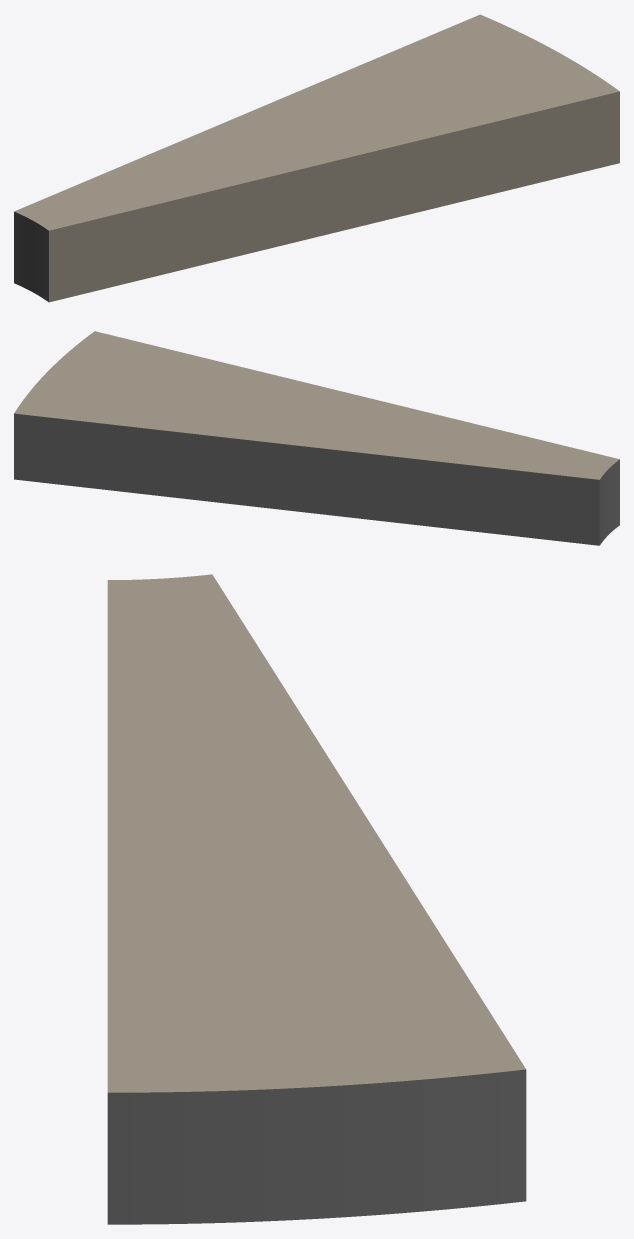
File: module_marche.glb
The picture shows the model from 3 angles, top to bottom: view 1: azimuth 30°, elevation 25°; view 2: azimuth 150°, elevation 25°; view 3: azimuth 270°, elevation 25°; orthographic projection. The views are drawn at different scales.
Parts seen in each view (by area): view 1: marche; view 2: marche; view 3: marche.
Part boxes in pixels (<box>): marche: <box>14,14,619,302</box>; marche: <box>14,331,619,545</box>; marche: <box>107,574,526,1224</box>.
Size of the model in its own units: 1.52 by 0.18 by 0.5176.
